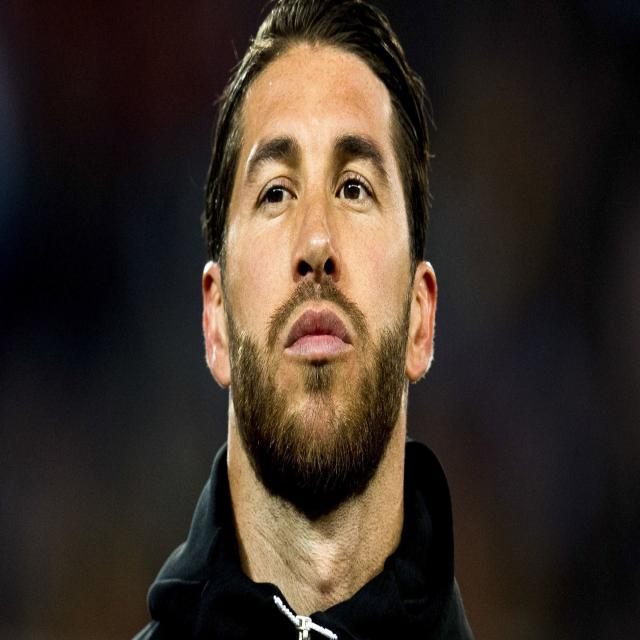human: (125, 7, 480, 640)
